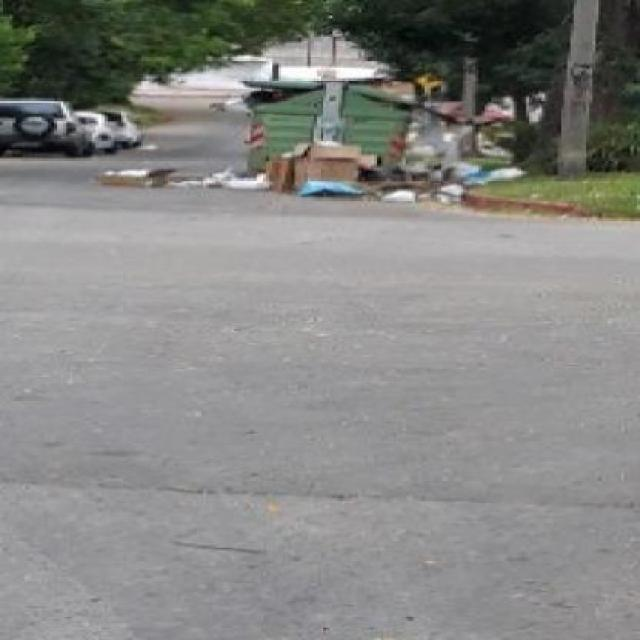garbage: (273, 145, 466, 204), (374, 68, 507, 139), (89, 168, 273, 195)
